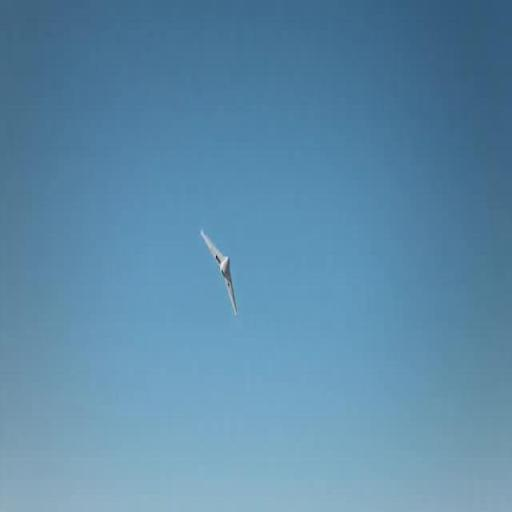uav: (196, 216, 242, 328)
